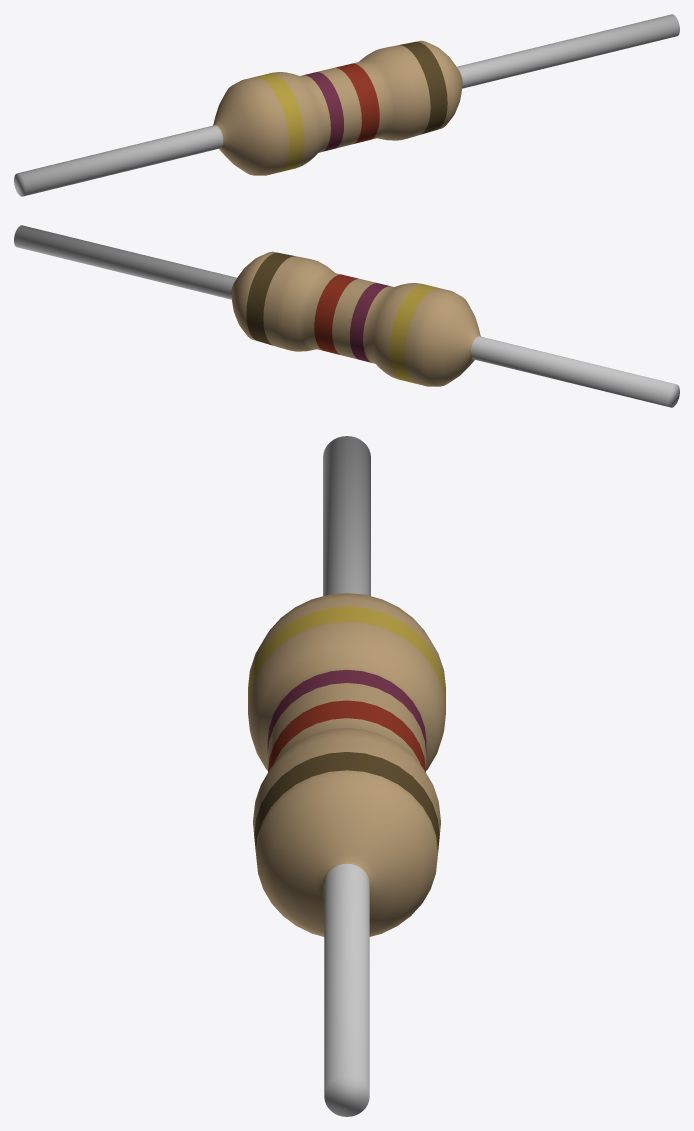
The model's file is Resistor01.fbx.
3 renders of one model, top to bottom at view 1: azimuth 30°, elevation 25°; view 2: azimuth 150°, elevation 25°; view 3: azimuth 270°, elevation 25°, orthographic. The views are drawn at different scales.
Visible parts, largest first — view 1: Cylinder; view 2: Cylinder; view 3: Cylinder.
Part boxes in pixels (box(x1,y1,x2,y2)): Cylinder: box(14, 14, 679, 196); Cylinder: box(14, 225, 679, 407); Cylinder: box(248, 436, 445, 1116).
Size of the model in its own units: 134 by 17.56 by 17.56.
